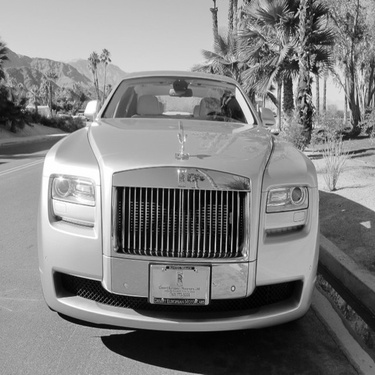car: (30, 67, 325, 347)
